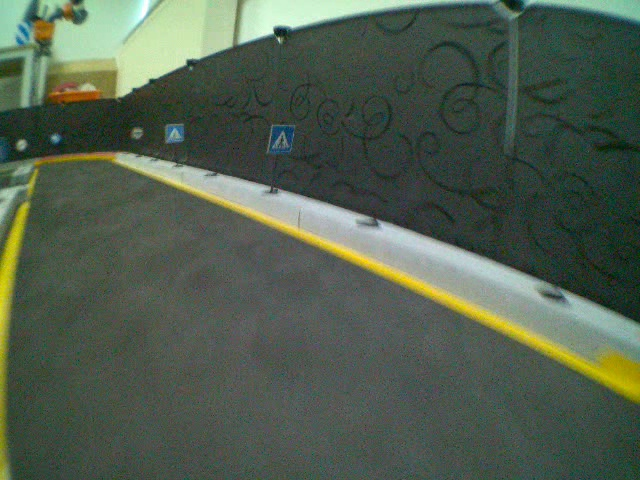Check: (130, 126, 144, 140)
crossing: (268, 122, 296, 154), (163, 122, 186, 145)
